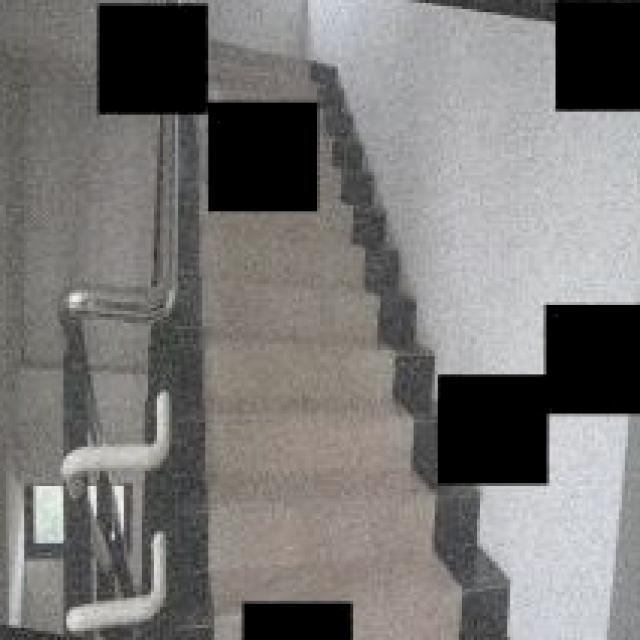upstair: (191, 258, 421, 496)
